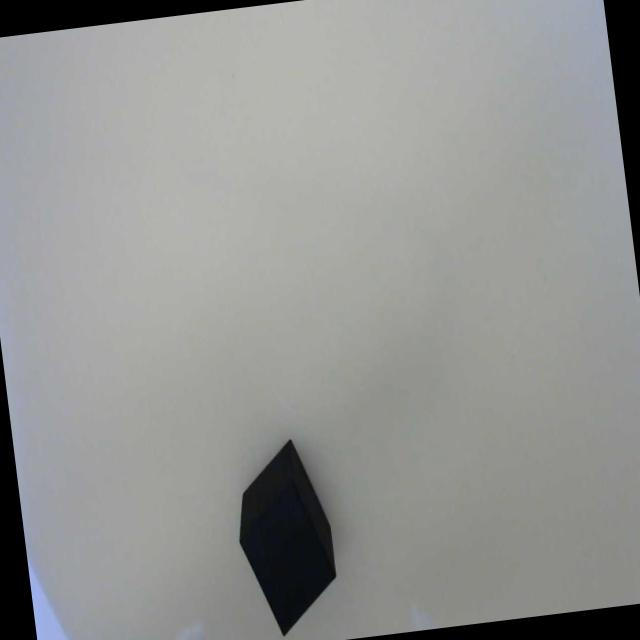square: (237, 481, 337, 640)
